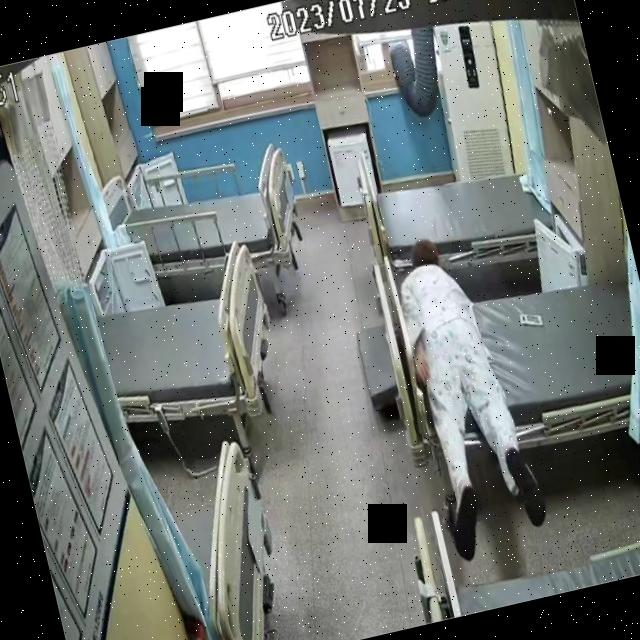bed: (396, 257, 640, 479), (86, 236, 293, 447), (98, 138, 306, 298), (356, 130, 560, 290)
danger: (378, 224, 552, 562)
patient: (378, 224, 552, 564)
